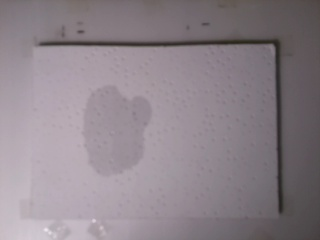Water_detected: (88, 96, 141, 164)
